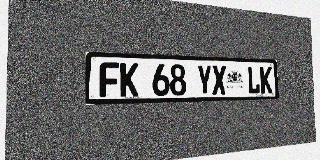6: (153, 64, 170, 96)
8: (170, 64, 186, 96)
F: (100, 62, 119, 97)
K: (120, 63, 138, 97), (260, 66, 272, 94)
L: (247, 66, 260, 94)
X: (212, 65, 226, 95)
Y: (197, 65, 212, 95)
